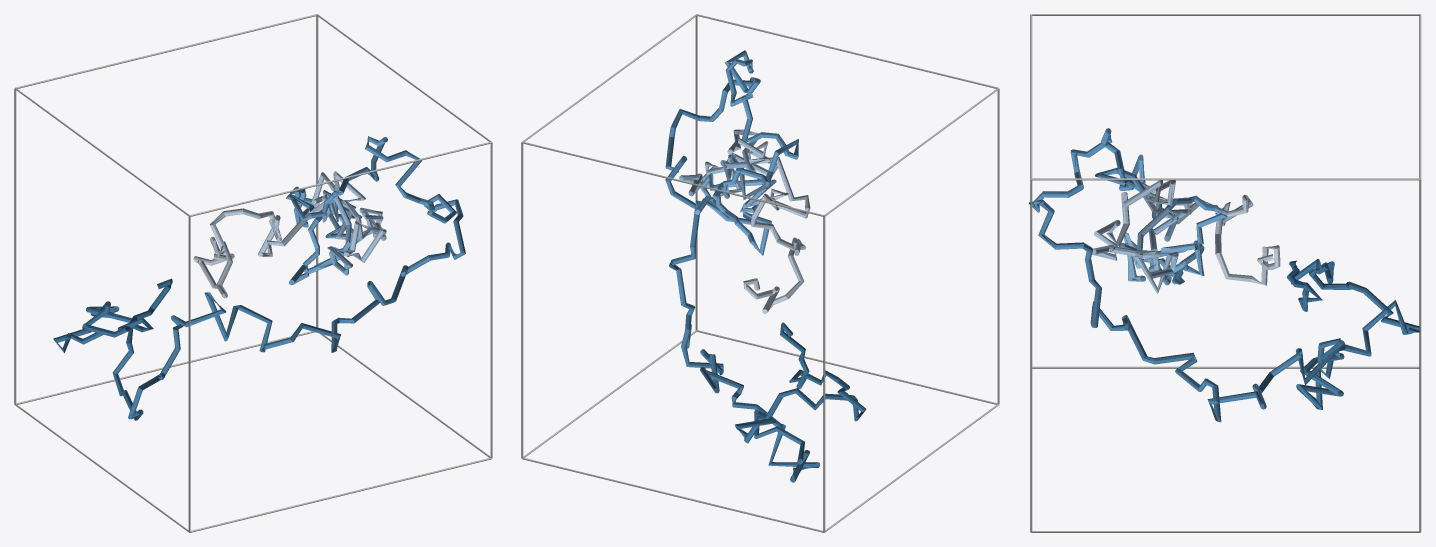
The picture shows the model from 3 angles, left to right: view 1: azimuth 30°, elevation 25°; view 2: azimuth 150°, elevation 25°; view 3: azimuth 270°, elevation 25°; orthographic projection. The views are drawn at different scales.
Parts seen in each view (by area): view 1: geometry_0, geometry_1; view 2: geometry_0, geometry_1; view 3: geometry_0, geometry_1.
Boxes of the visible parts, bbox=[...] form: geometry_0: bbox=[53, 136, 465, 420]; geometry_1: bbox=[14, 14, 492, 532]; geometry_0: bbox=[665, 50, 866, 482]; geometry_1: bbox=[521, 14, 999, 532]; geometry_0: bbox=[1029, 128, 1419, 422]; geometry_1: bbox=[1030, 14, 1421, 532].
Size of the model in its own units: 0.3041 by 0.3037 by 0.3031.
